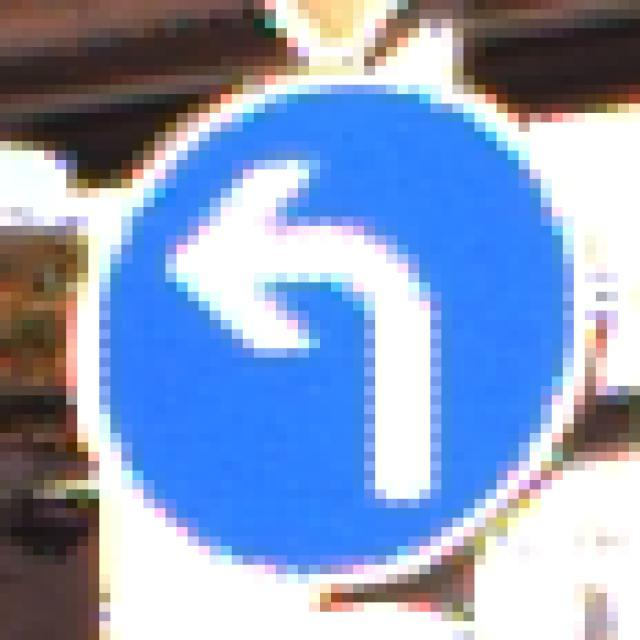compulsary turn left ahead: (84, 79, 592, 588)
